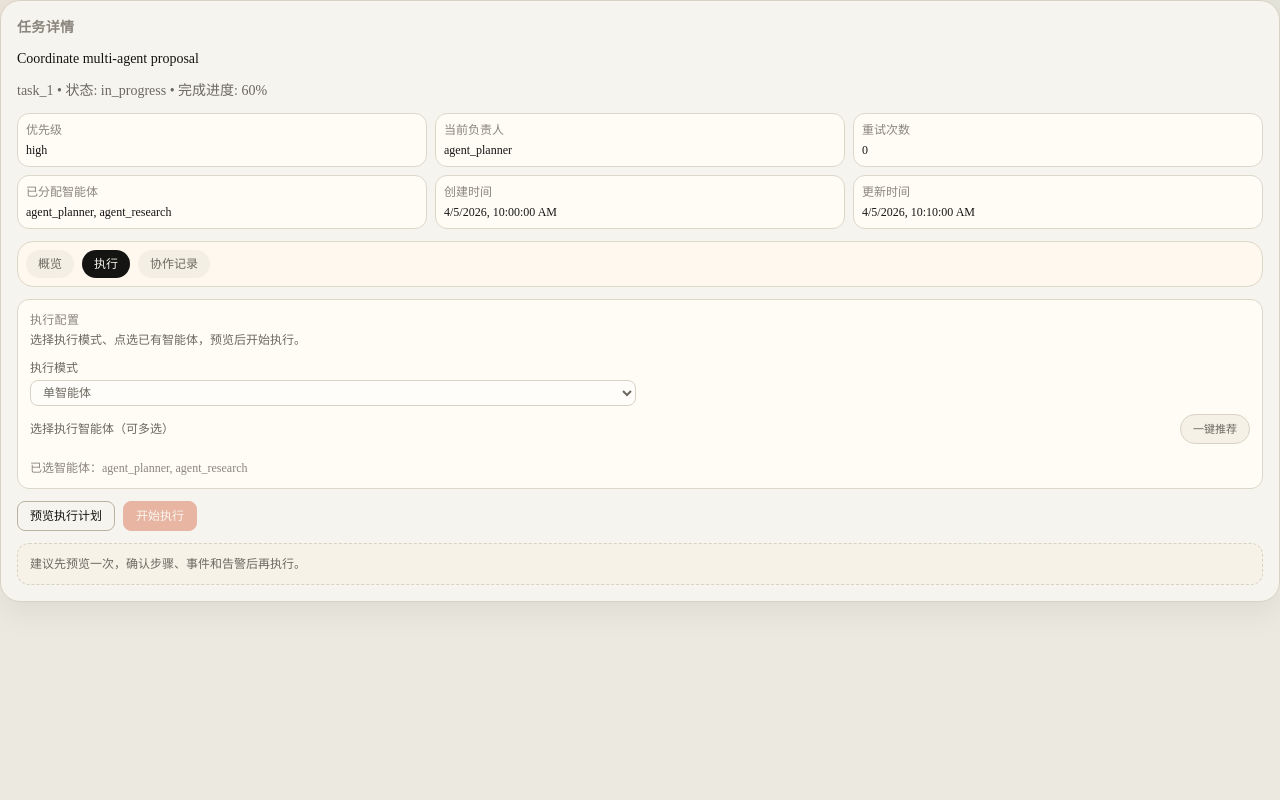
Test: TaskDetail › shows empty consensus state when no consensus is available
The width and height of the screenshot is (1280, 800).
Step 1. Click the button with test id "task-detail-tab-coordination" → (174, 264), box [138,250,210,278]
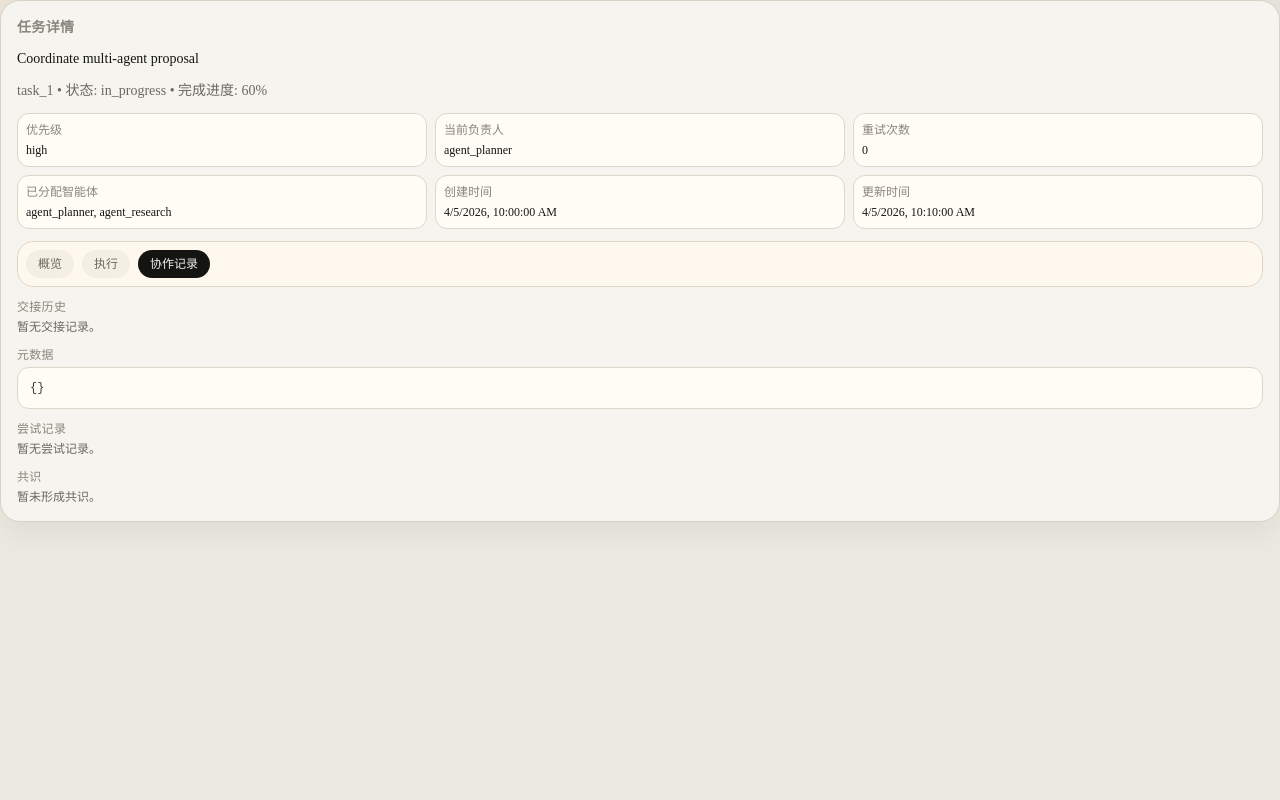
Check: the text "暂未形成共识。" is shown, box [17,490,101,504]
